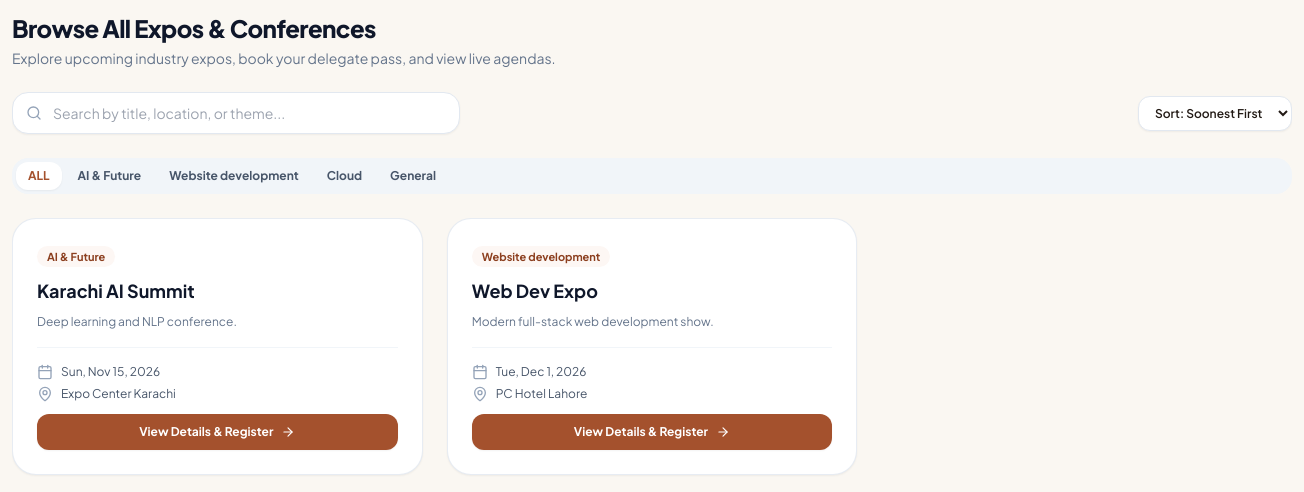
Test: BrowseExpos Component › filters expos based on keyword input
Check: the heading "Karachi AI Summit" is shown, box [37,279,195,302]
In the field with placeholder "Search by title, location, or theme...": coordinates (236, 113) [12,92,460,134], type "Karachi"
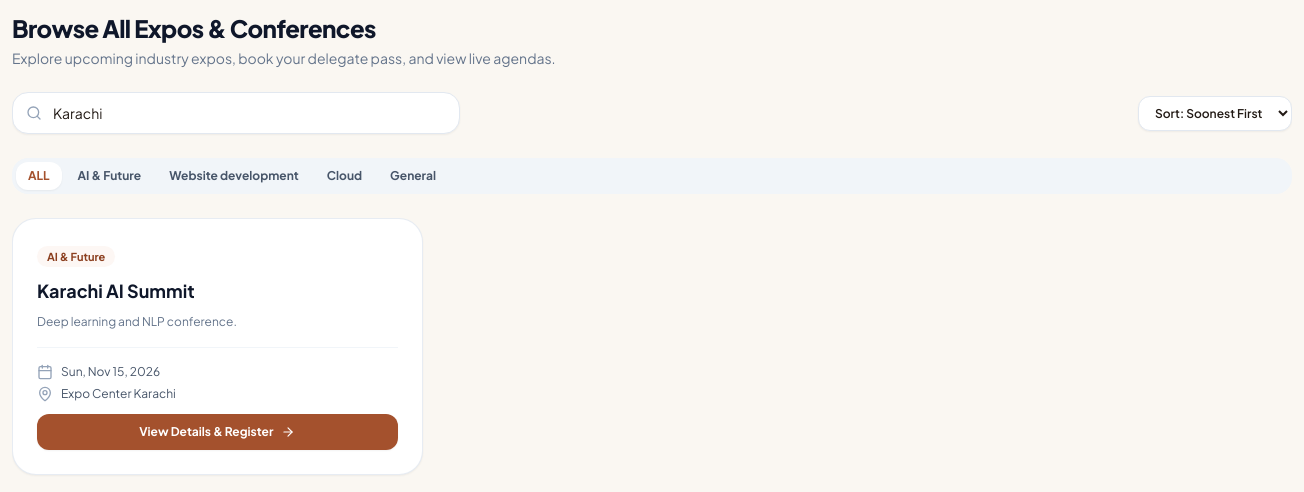
Check: the heading "Karachi AI Summit" is shown, box [37,279,195,302]
Check: the heading "Web Dev Expo" is gone
